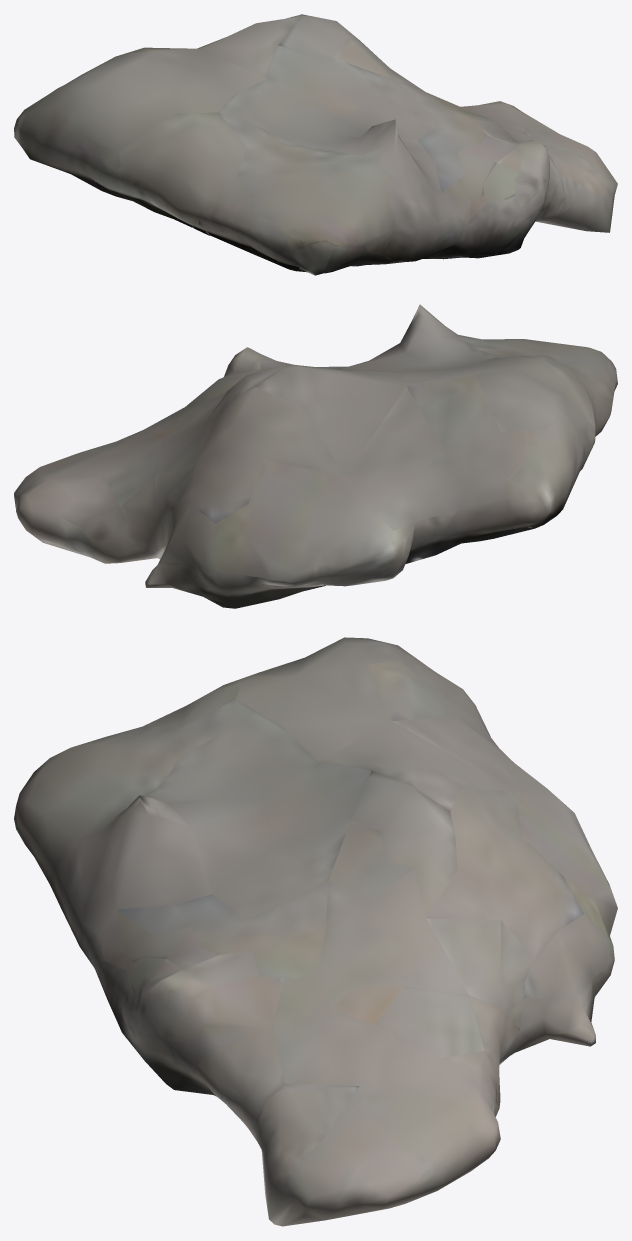
File: hall.glb
The picture shows the model from 3 angles, top to bottom: view 1: azimuth 30°, elevation 25°; view 2: azimuth 150°, elevation 25°; view 3: azimuth 270°, elevation 25°; orthographic projection. The views are drawn at different scales.
Size of the model in its own units: 0.424 by 0.1871 by 0.3278.
1 material, 1 textured.
